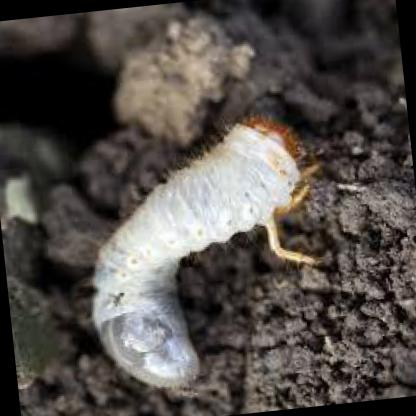root grubs: (93, 117, 315, 388)
